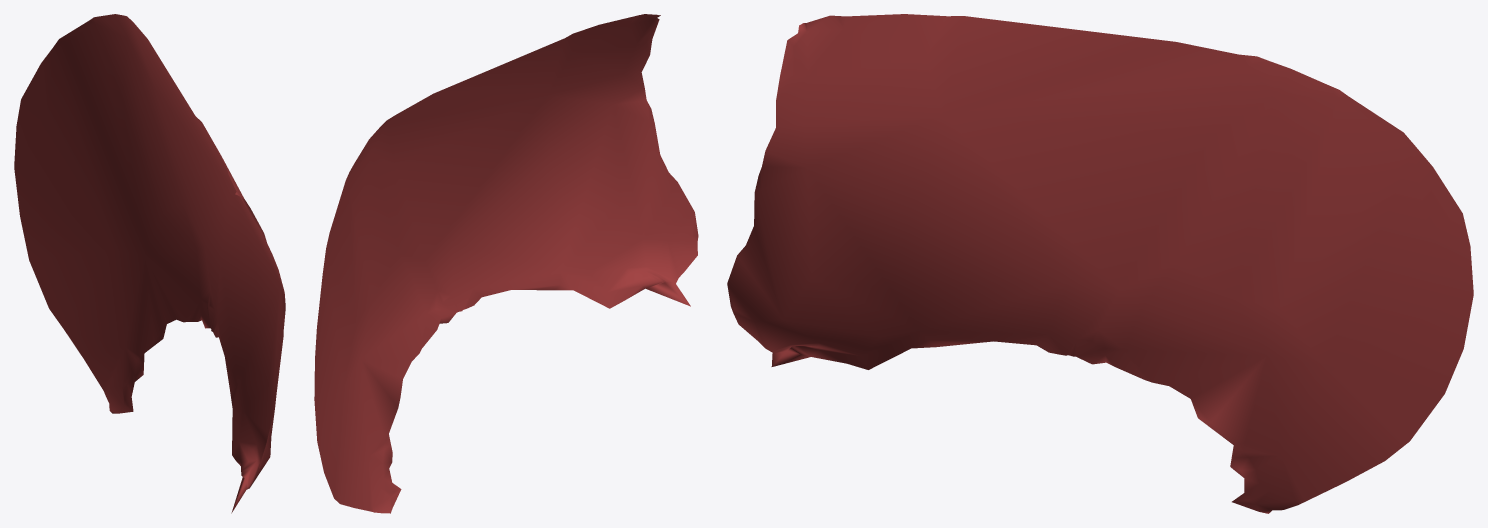
The model's file is temporalis-muscle-o2l.glb.
3 renders of one model, left to right at view 1: azimuth 30°, elevation 25°; view 2: azimuth 150°, elevation 25°; view 3: azimuth 270°, elevation 25°, orthographic. The views are drawn at different scales.
Visible parts, largest first — view 1: Temporalis muscle.o2l; view 2: Temporalis muscle.o2l; view 3: Temporalis muscle.o2l.
Part boxes in pixels (x1,y1,x2,y2): Temporalis muscle.o2l: (14, 14, 285, 513); Temporalis muscle.o2l: (314, 14, 698, 513); Temporalis muscle.o2l: (727, 14, 1473, 513).
Bounding box in the file's own units: 0.0207 × 0.0623 × 0.0896.
